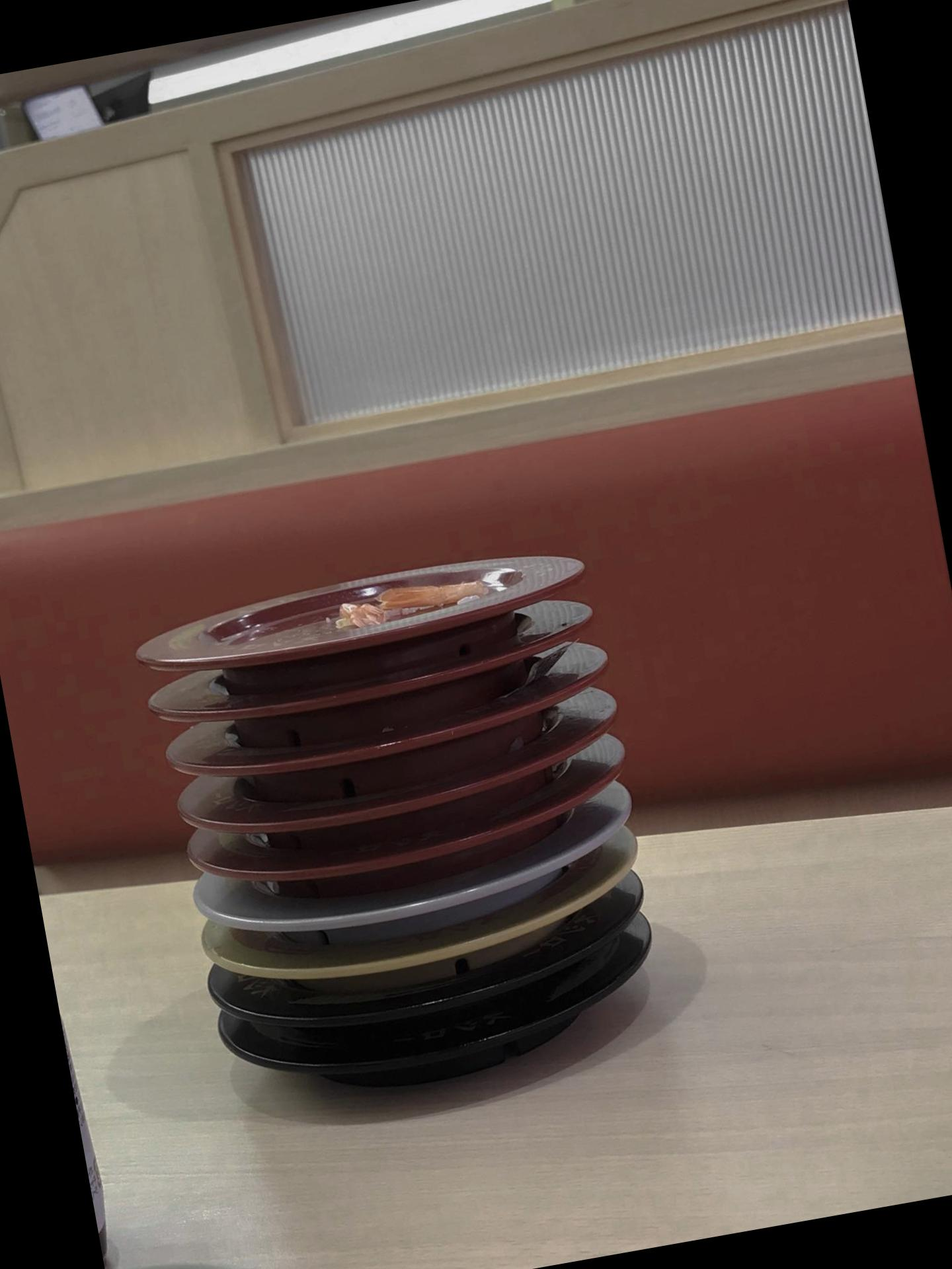Janback: (225, 992, 597, 1115), (222, 947, 606, 1058)
Jangold: (243, 889, 601, 993)
Janred: (122, 514, 595, 705), (149, 617, 592, 748), (175, 680, 567, 795), (181, 740, 561, 852), (189, 792, 556, 898)
Janwhite: (226, 839, 596, 942)
